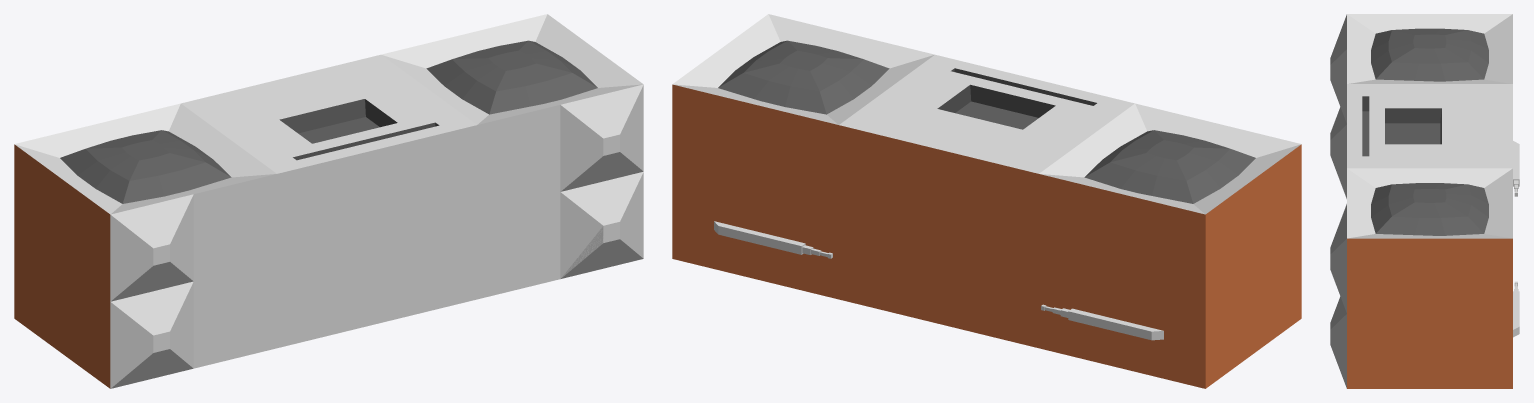
The picture shows the model from 3 angles, left to right: view 1: azimuth 30°, elevation 25°; view 2: azimuth 150°, elevation 25°; view 3: azimuth 270°, elevation 25°; orthographic projection. The views are drawn at different scales.
Parts seen in each view (by area): view 1: Radio; view 2: Radio; view 3: Radio.
Boxes of the visible parts, box(x1,y1,x2,y2) form: Radio: box(14, 14, 643, 388); Radio: box(672, 14, 1301, 388); Radio: box(1330, 14, 1519, 388).
Size of the model in its own units: 32 by 10.5 by 11.4.
